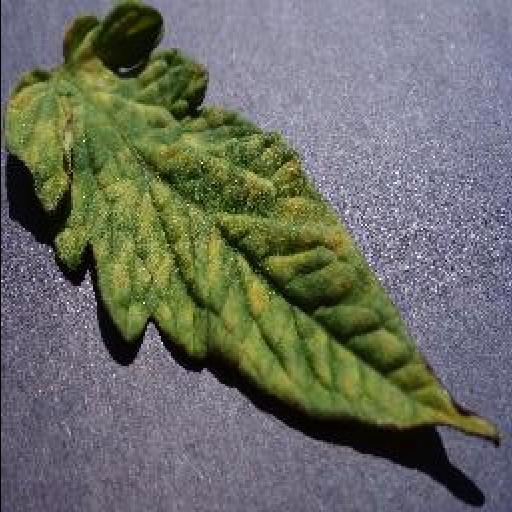disease_tomato: (0, 0, 502, 451)
